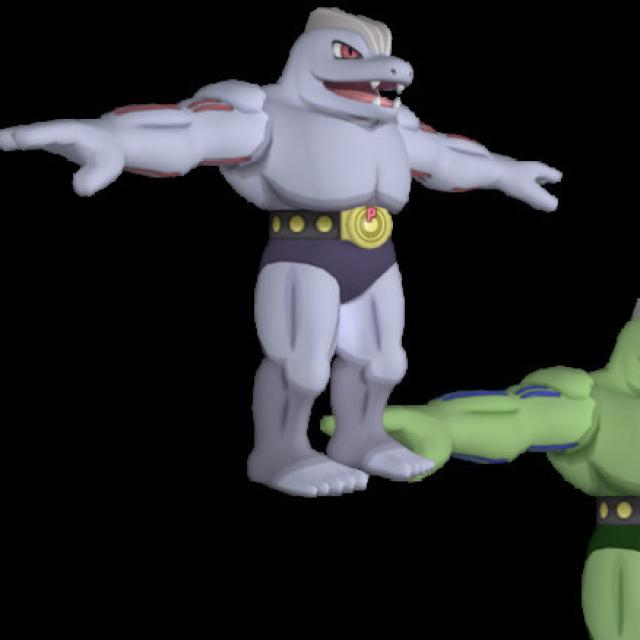Machoke: (97, 5, 513, 352)
